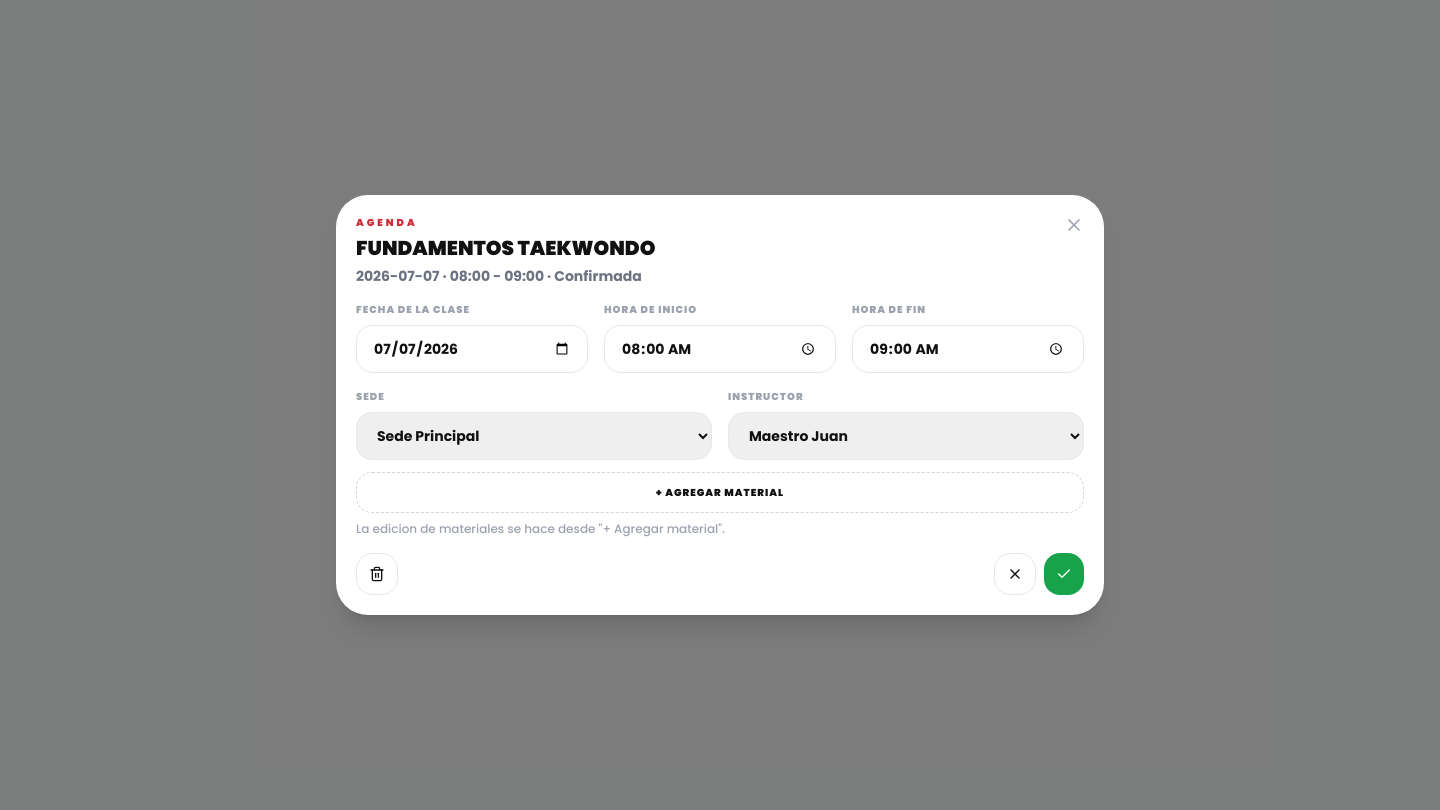
Test: ModalEdicionJornada › si la jornada ya se opero, ofrece cancelar la clase en lugar de eliminarla, sin cerrar el modal
This screenshot has width=1440, height=810.
Click the button named "eliminar clase".
click(377, 574)  # box 356,553 -> 398,595
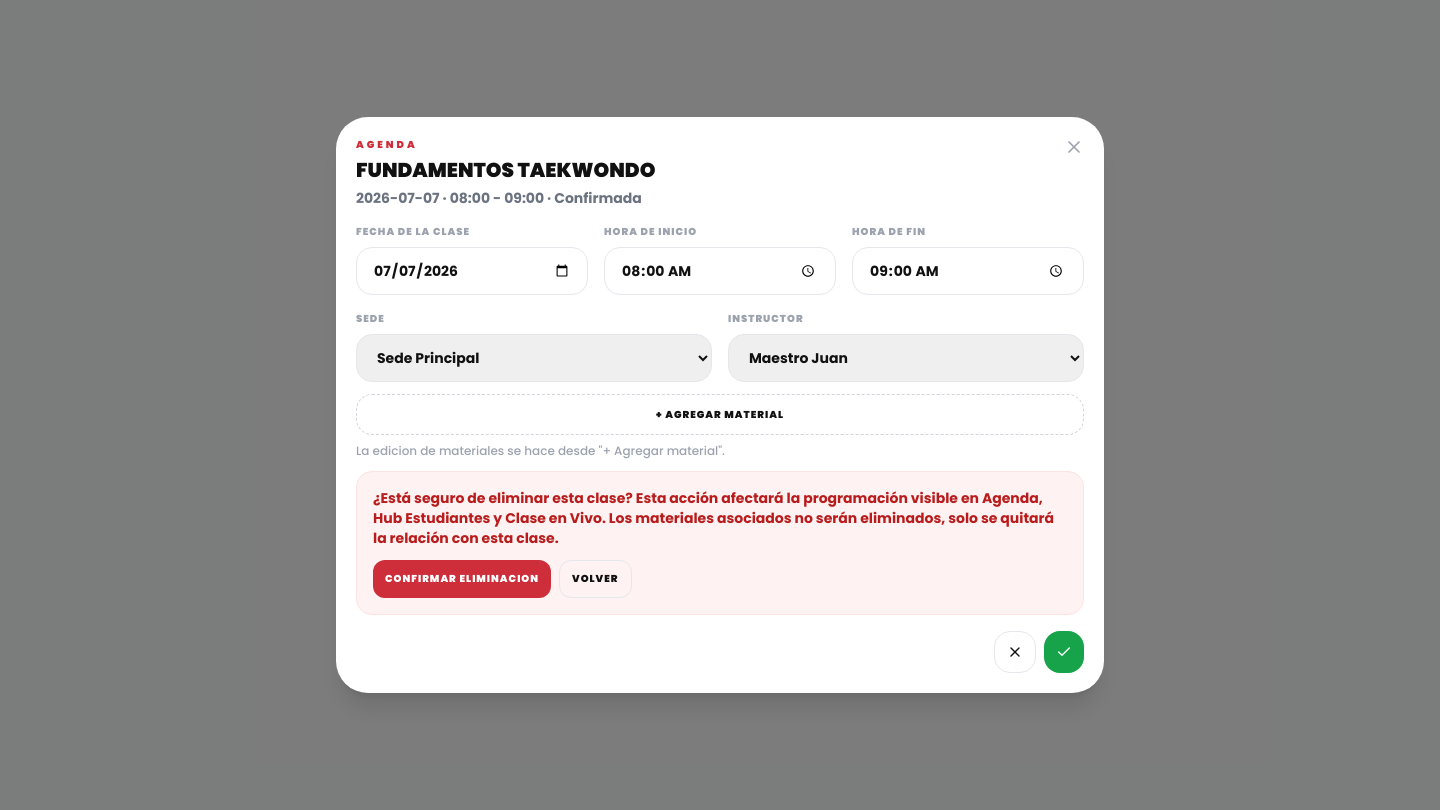
Click the button "Confirmar eliminacion".
click(462, 579)  # box 373,560 -> 551,598
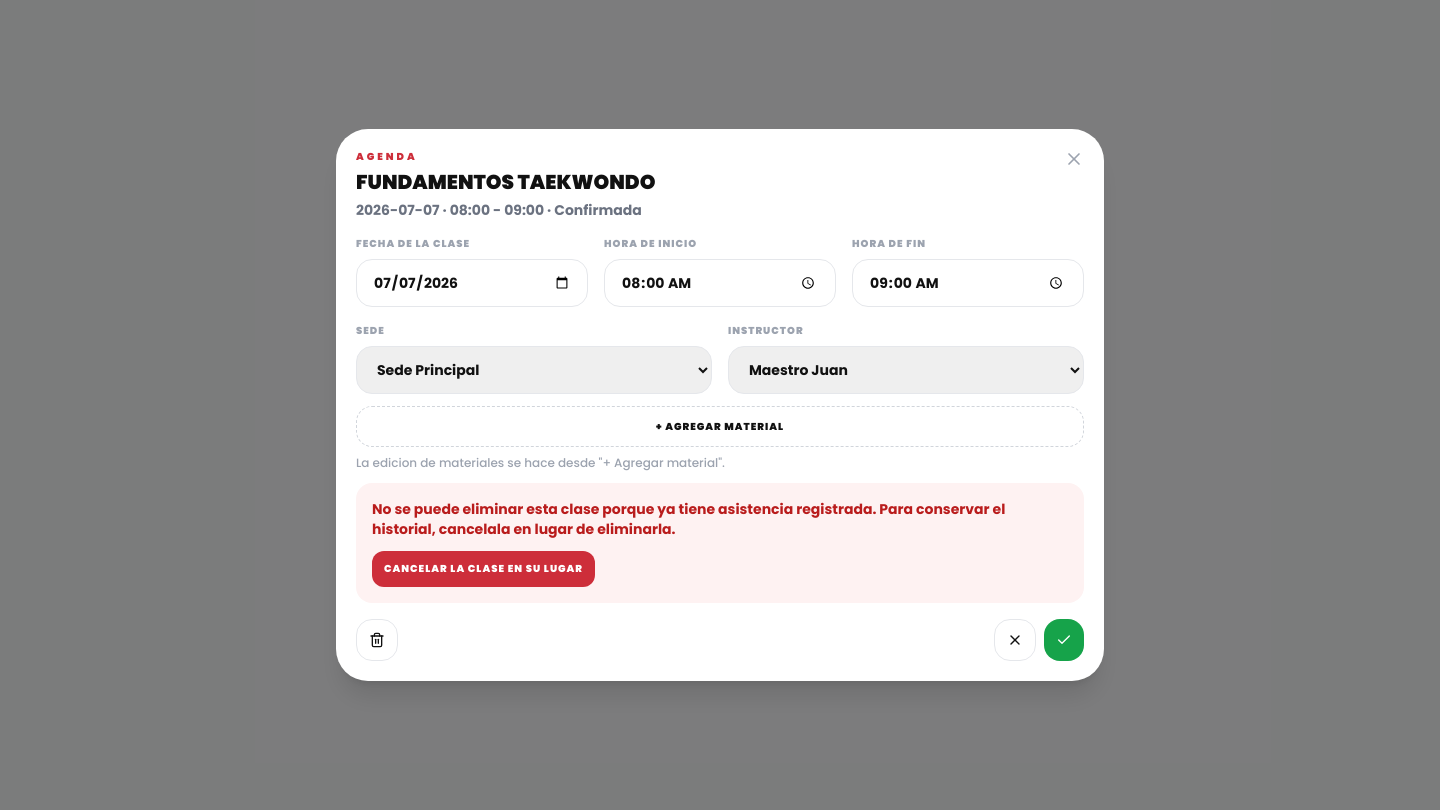
Now the text "No se puede eliminar esta clase porque ya tiene asistencia registrada" is shown, box 372,499 -> 1005,539
Now the button "Cancelar la clase en su lugar" is shown, box 372,551 -> 595,587
